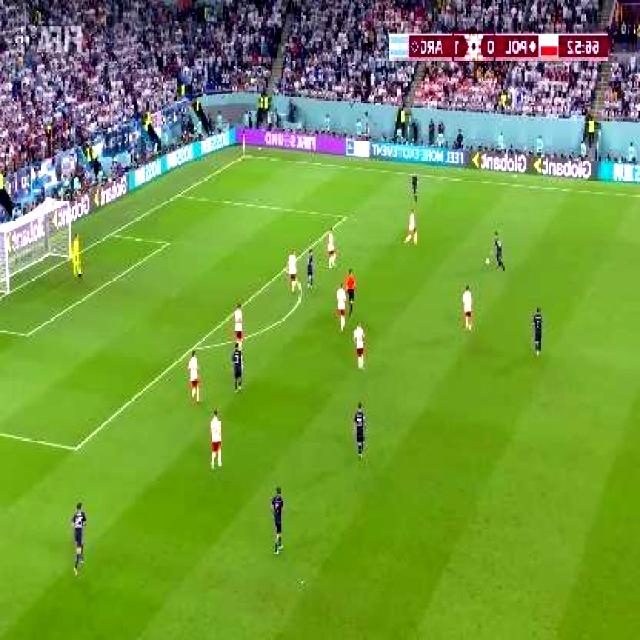bigarea_bottom_inner: (68, 436, 86, 458)
bigarea_top_inner: (341, 208, 354, 225)
bigarea_top_outter: (172, 186, 186, 202)
bottom_arc_area_intersection: (186, 338, 202, 357)
corner: (238, 149, 252, 162)
smallarea_bottom_inner: (20, 323, 35, 345)
smallarea_top_inner: (163, 234, 177, 251)
smallarea_top_outter: (105, 226, 118, 242)
top_arc_area_intersection: (280, 261, 292, 277)
